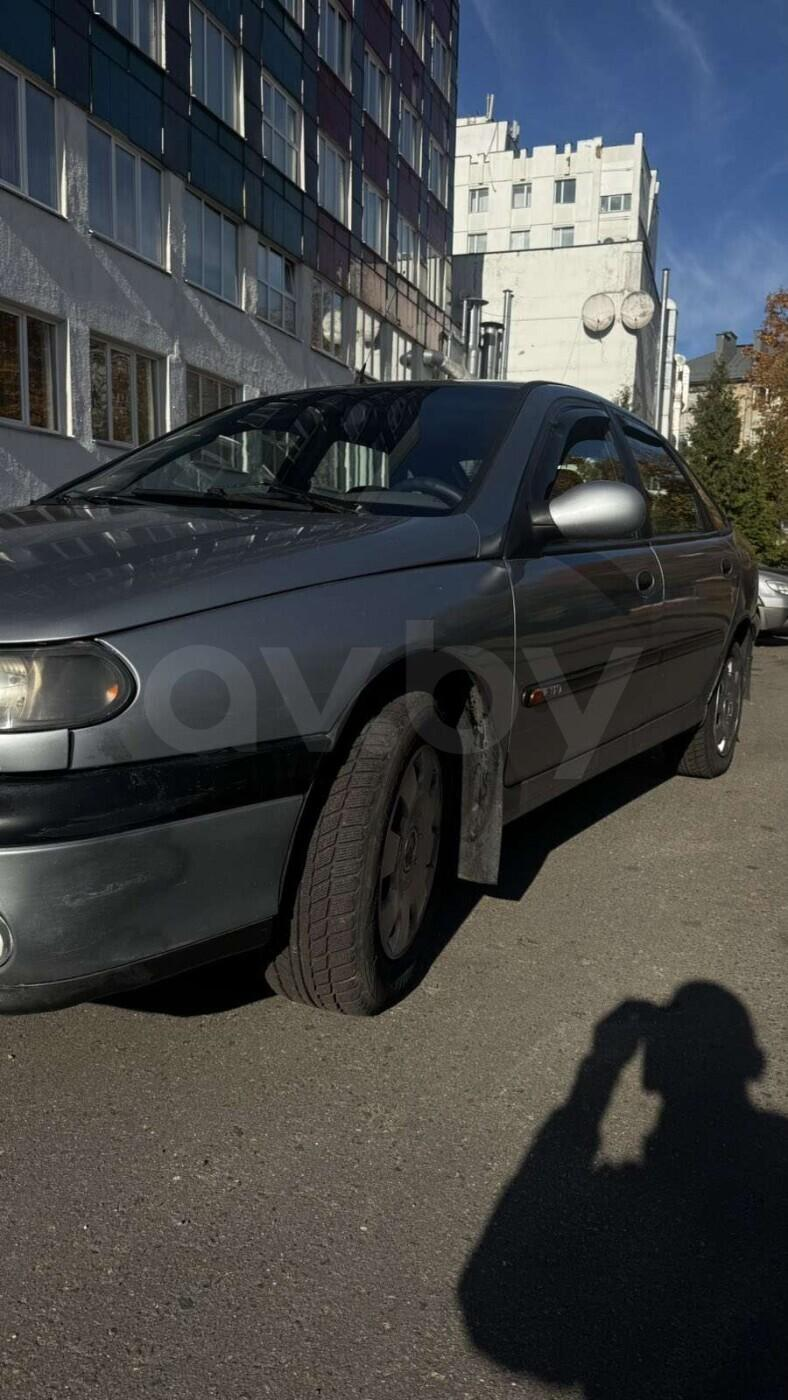Laguna_1998-2001: (0, 364, 764, 1036)
